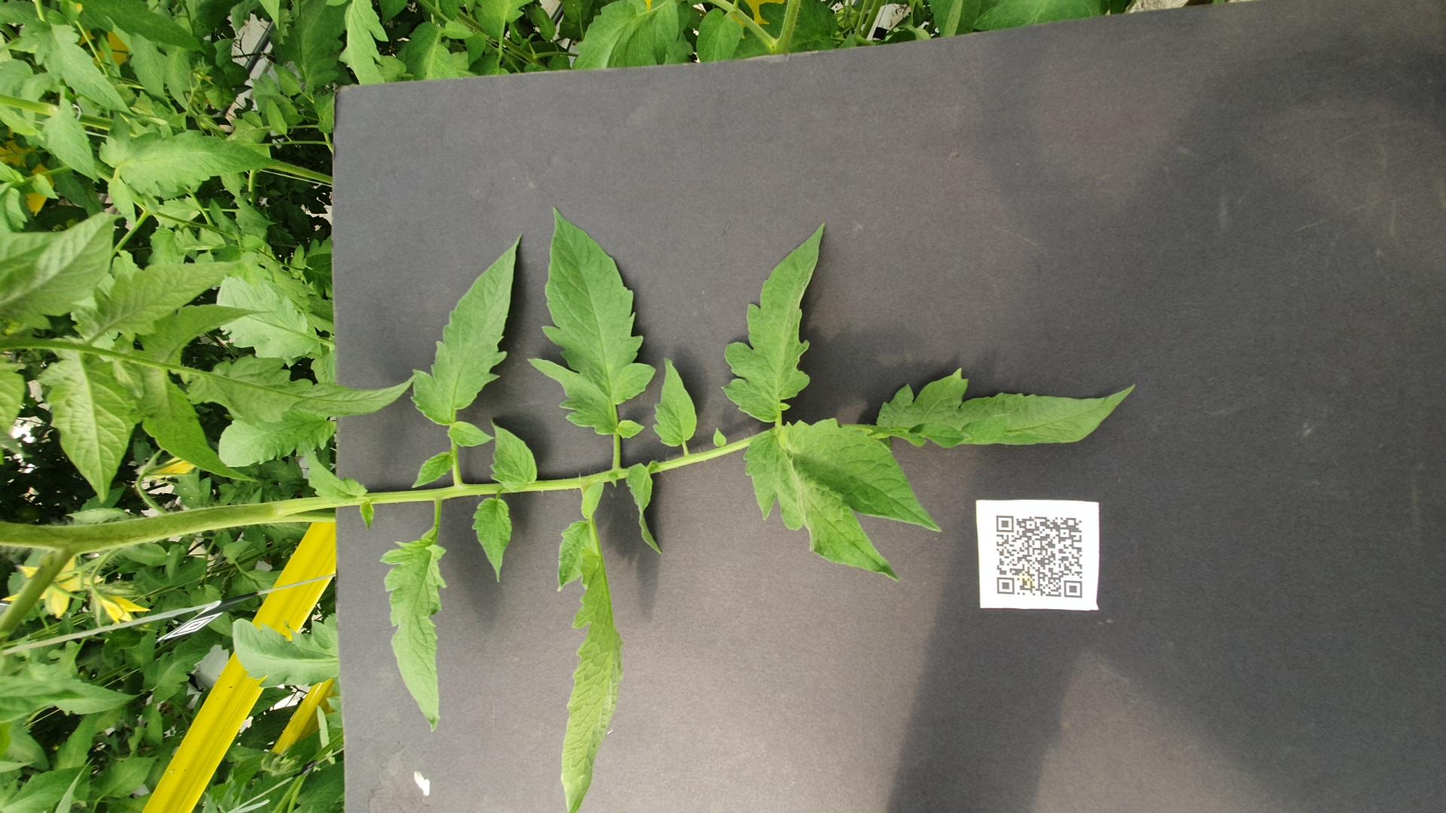Healthy: (666, 295, 1075, 369), (644, 231, 1030, 293), (409, 417, 674, 504), (687, 404, 1050, 467), (645, 487, 793, 640), (0, 310, 526, 351), (1042, 56, 1247, 160), (496, 439, 701, 530), (693, 103, 817, 233), (154, 211, 493, 257), (542, 18, 813, 72), (846, 51, 992, 140), (1239, 18, 1407, 77), (805, 122, 958, 179), (1317, 320, 1446, 383), (218, 129, 350, 190), (1349, 44, 1446, 116), (616, 123, 711, 190), (193, 80, 335, 124), (1118, 23, 1276, 57), (1292, 189, 1446, 219), (1300, 227, 1414, 267), (553, 167, 663, 208), (648, 366, 813, 392), (0, 0, 86, 49), (412, 264, 566, 289), (569, 274, 706, 302), (459, 351, 628, 373), (172, 28, 240, 81), (1333, 390, 1433, 419), (24, 55, 109, 89), (573, 231, 645, 255)
